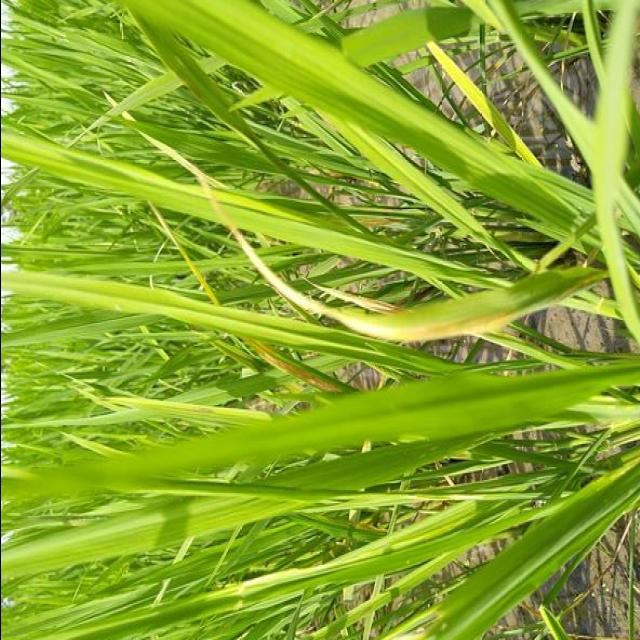Leaf Blight: (217, 202, 598, 342), (244, 339, 337, 389)
